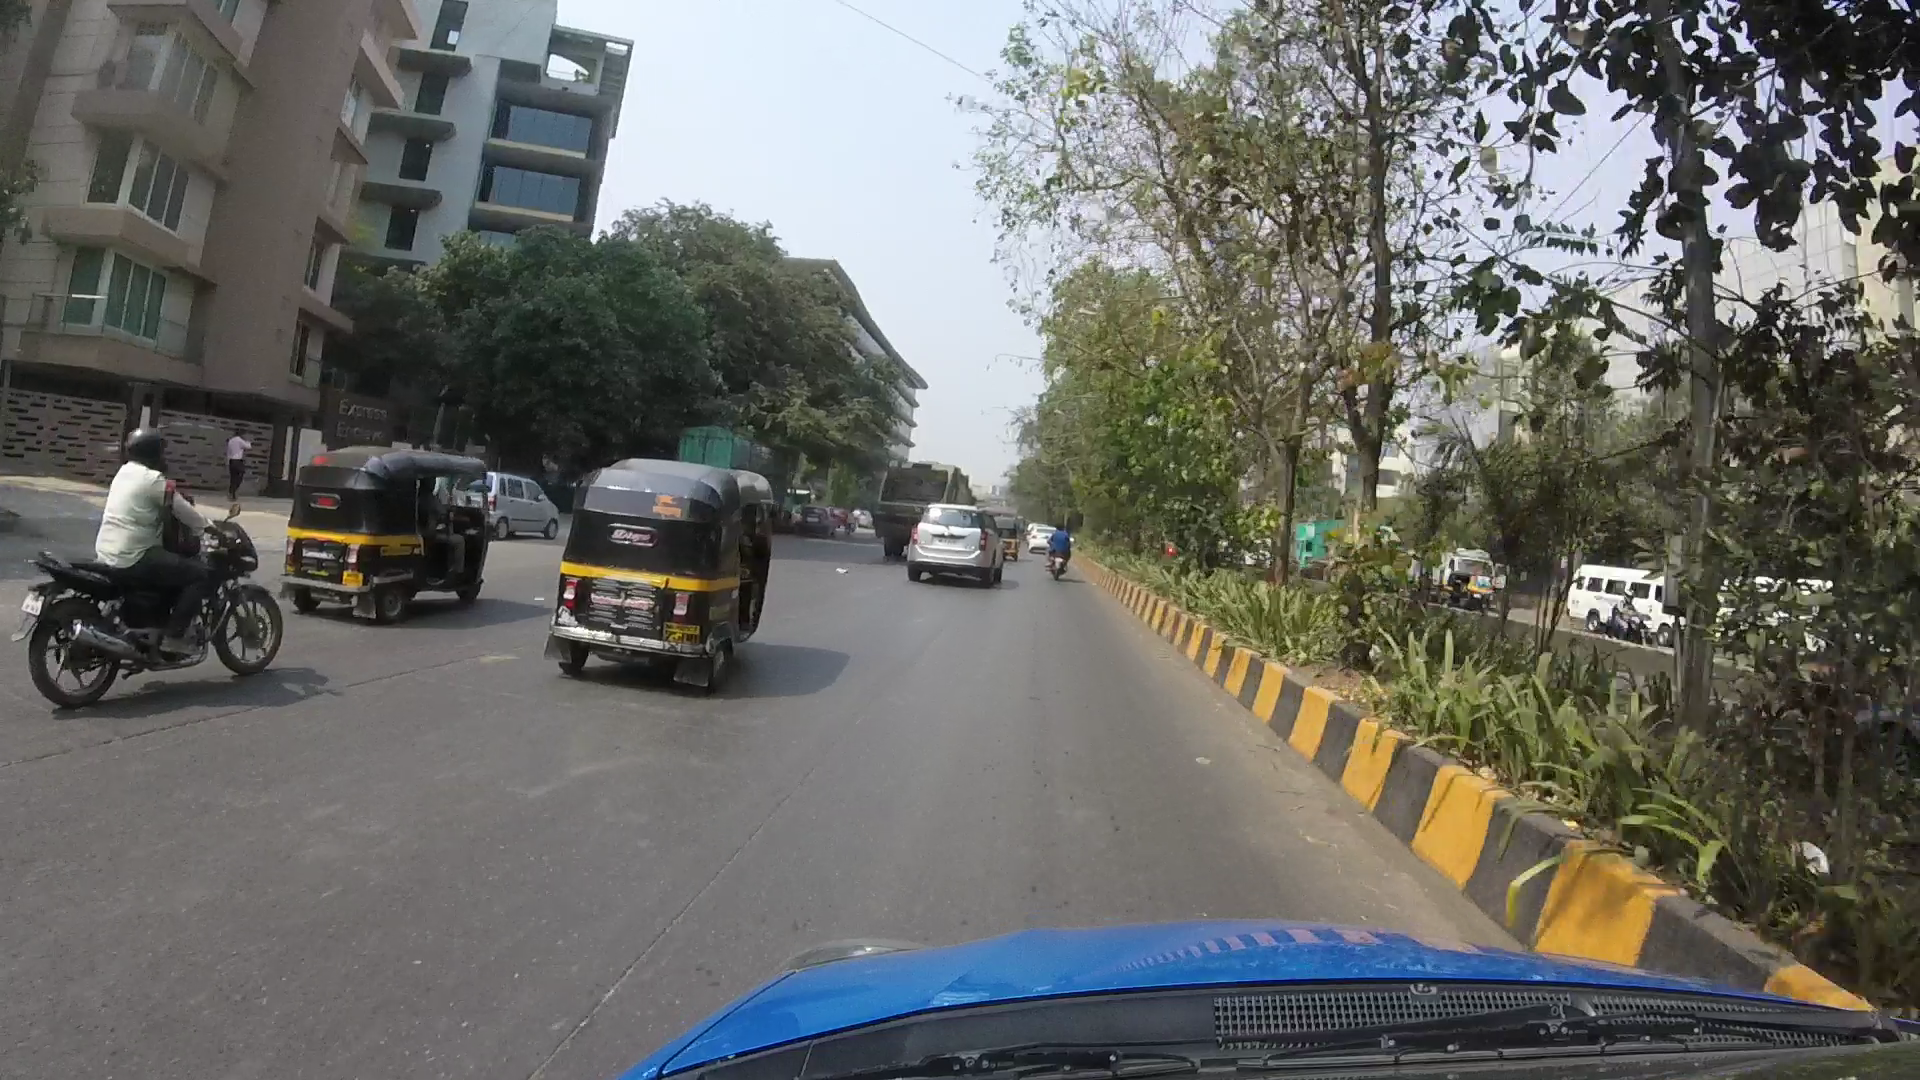bike/scooter: (12, 407, 291, 707), (1039, 512, 1092, 596)
car: (901, 491, 1004, 582), (472, 459, 562, 546)
rickshaw: (549, 431, 783, 687), (280, 415, 504, 625)
truck: (869, 454, 980, 547)
